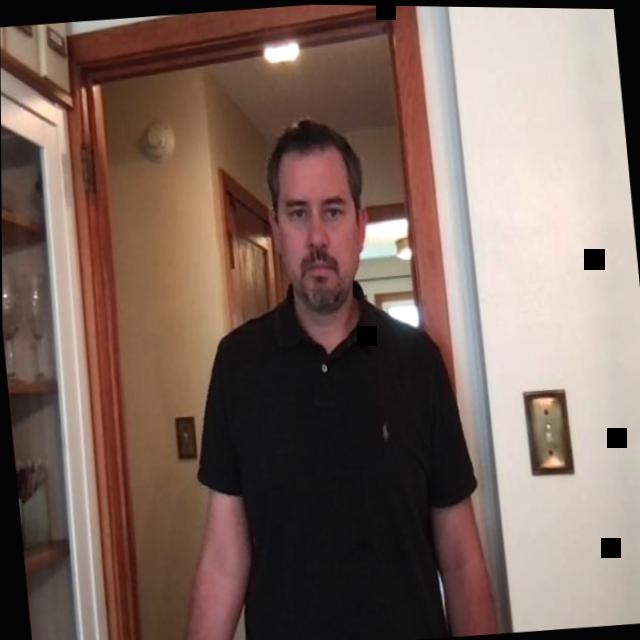NO-Mask: (263, 116, 373, 318)
